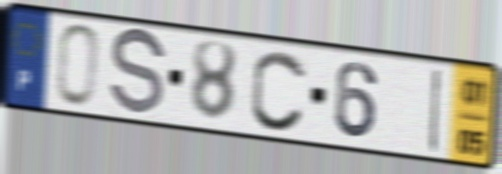0: (52, 20, 106, 111)
6: (334, 59, 379, 142)
8: (187, 38, 240, 127)
C: (248, 47, 309, 135)
I: (425, 65, 445, 156)
S: (106, 25, 170, 120)
